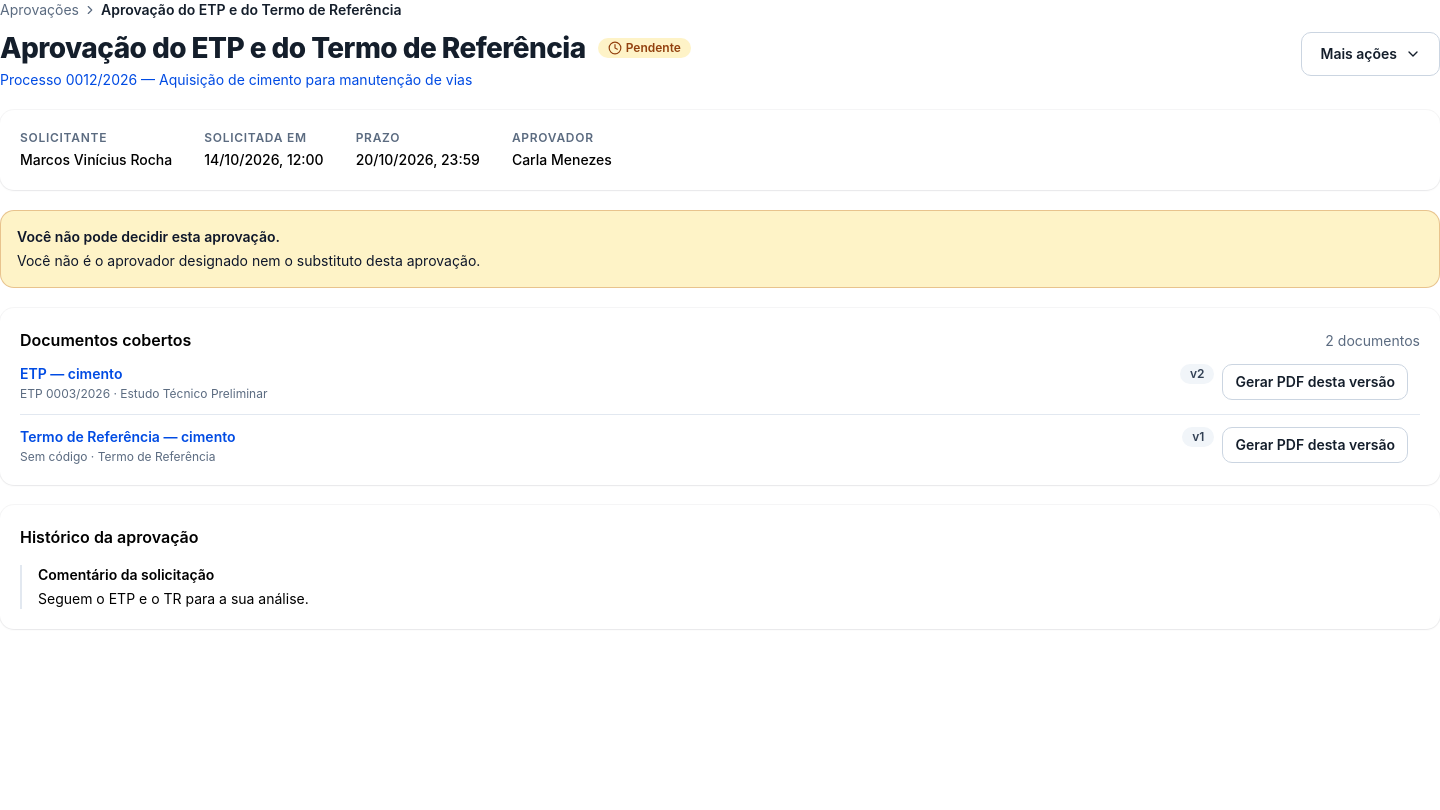
Test case: SCR-015 · Retirar aprovação (US-053) › [Falha de banco] 503: mantém o diálogo com "Tentar novamente"
Click the button "Mais ações": x=1371, y=54 [1302,32,1439,76]
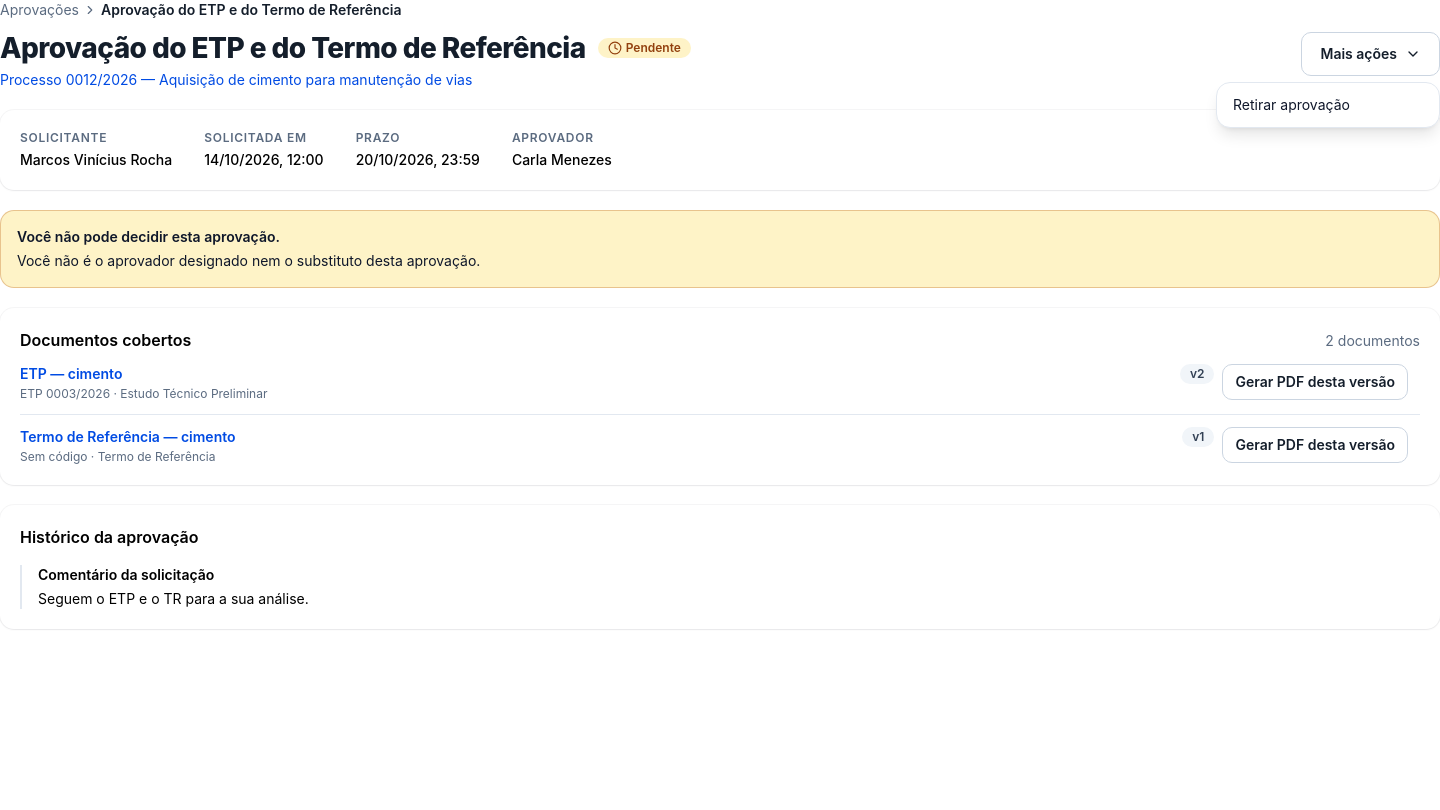
Click the menu item "Retirar aprovação": x=1291, y=104 [1233,96,1350,113]
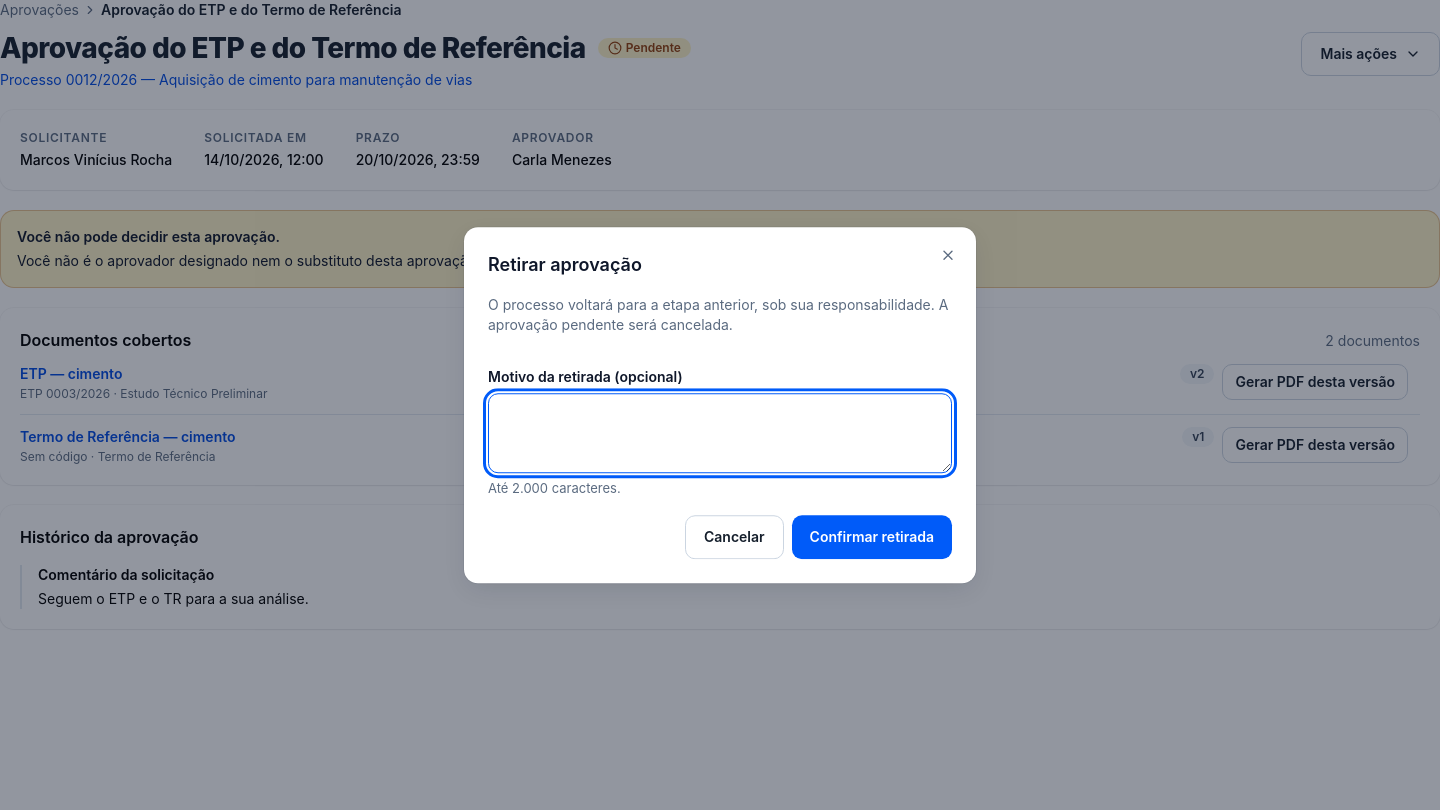
Click the button "Confirmar retirada": x=872, y=537 [792,515,952,559]
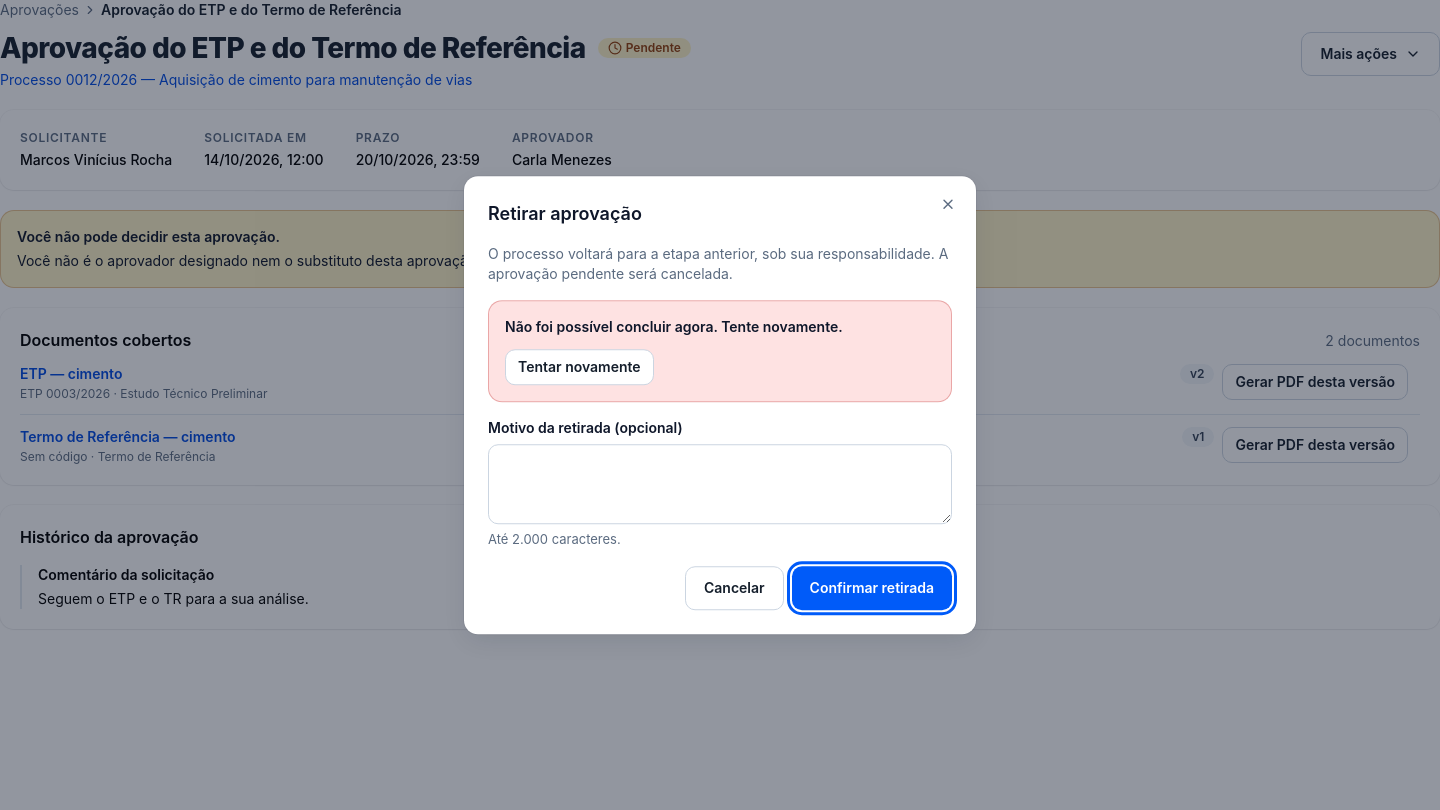
Expected: the dialog "Retirar aprovação" is shown, [464,176,976,634]
Expected: the text "Não foi possível concluir agora. Tente novamente." is shown, [505,318,843,335]
Expected: the button "Tentar novamente" is shown, [505,349,654,385]
